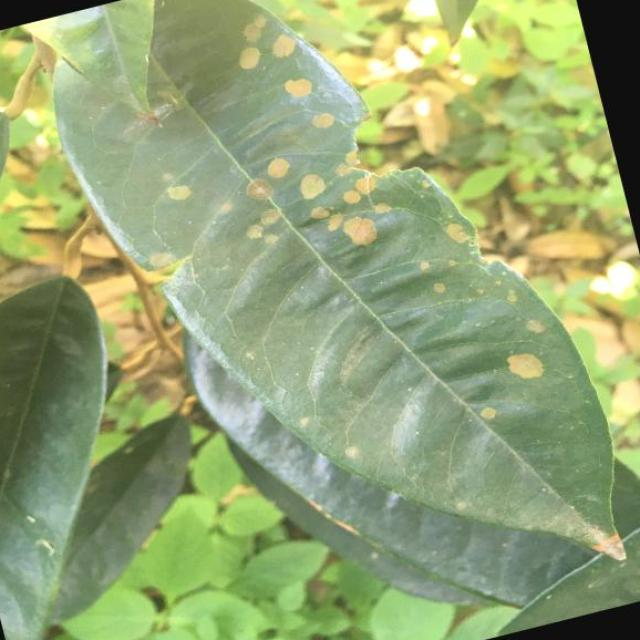Algal Leaf Spot: (23, 0, 640, 640)
